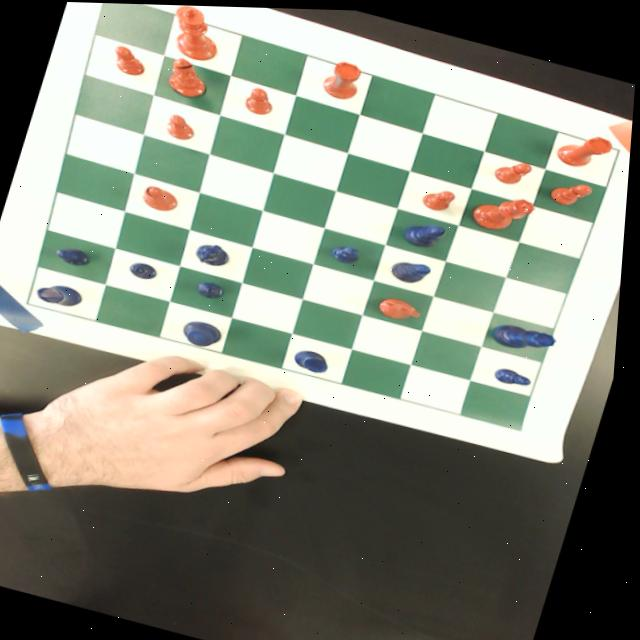B: (401, 213, 450, 249), (390, 253, 436, 284)
K: (181, 315, 230, 349)
N: (194, 237, 239, 269)
P: (54, 242, 96, 269), (497, 362, 539, 387), (331, 239, 366, 264), (129, 258, 164, 281), (196, 277, 231, 299)
Q: (492, 315, 563, 355)
R: (38, 279, 89, 310), (294, 345, 338, 374)
b: (159, 53, 213, 101), (140, 182, 184, 213)
k: (161, 4, 228, 62)
n: (378, 291, 428, 322)
p: (546, 171, 597, 208), (107, 43, 152, 78), (492, 152, 535, 186), (163, 110, 203, 142), (242, 83, 278, 116), (421, 182, 459, 211)
q: (469, 183, 538, 235)
r: (554, 122, 616, 170), (320, 56, 366, 100)
